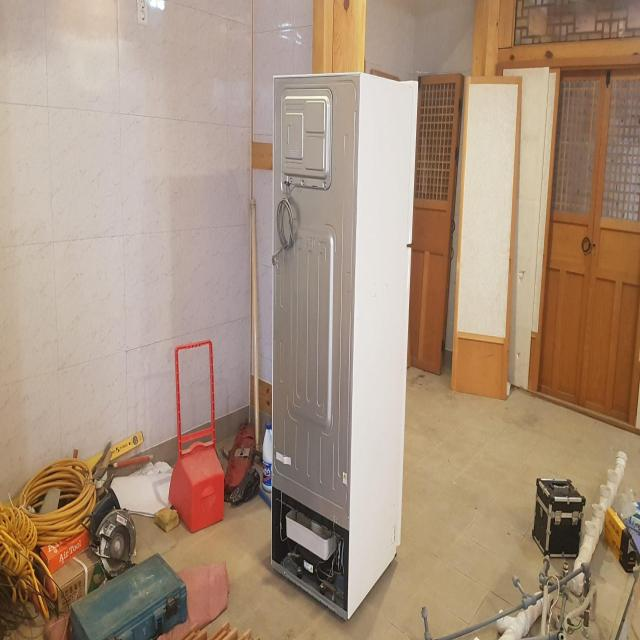refrigerator: (266, 62, 420, 622)
